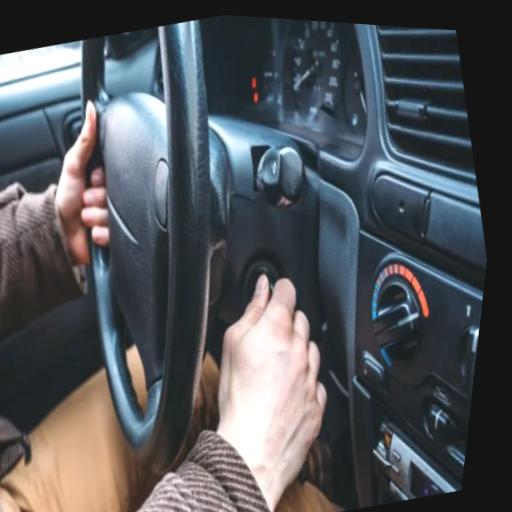Hands-on-the-Wheel: (0, 74, 183, 299)
